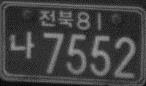1: (95, 11, 102, 32)
2: (113, 35, 136, 79)
5: (65, 33, 88, 76), (88, 34, 110, 77)
7: (41, 31, 64, 74)
8: (75, 10, 89, 31)
나: (9, 29, 35, 58)
전북_O: (39, 8, 73, 29)
